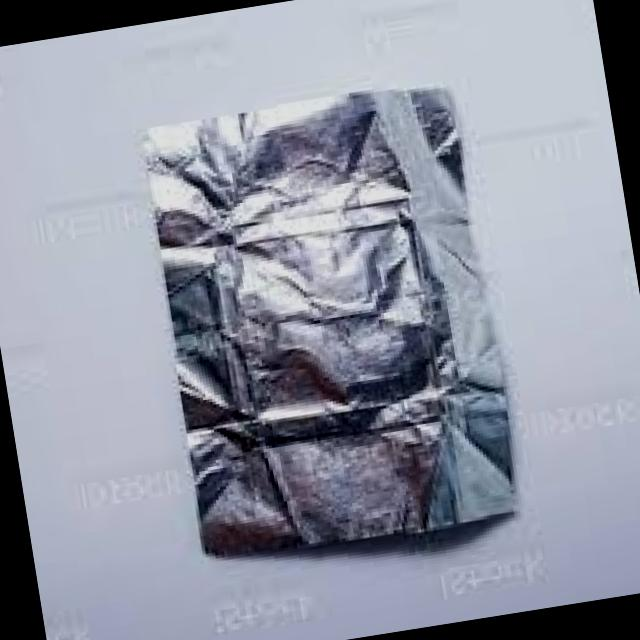kim_loai: (136, 77, 525, 555)
